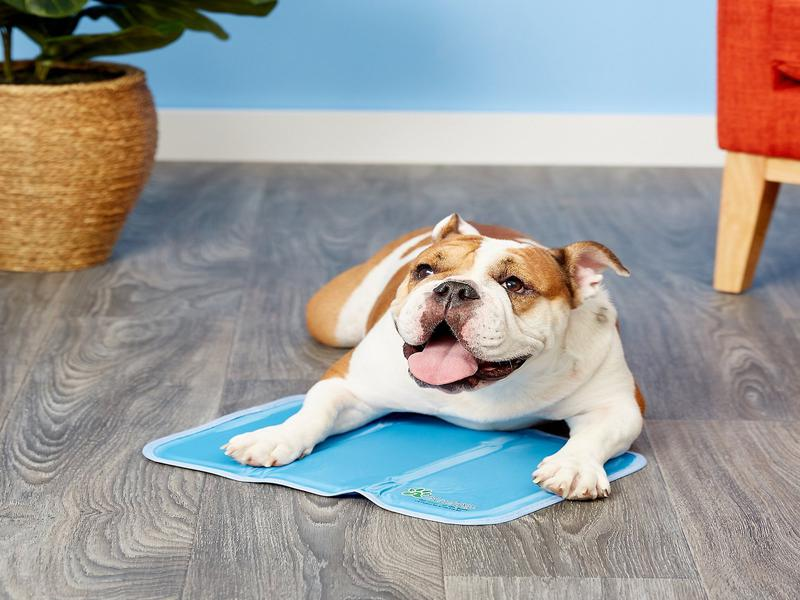dog_down: (226, 210, 651, 505)
